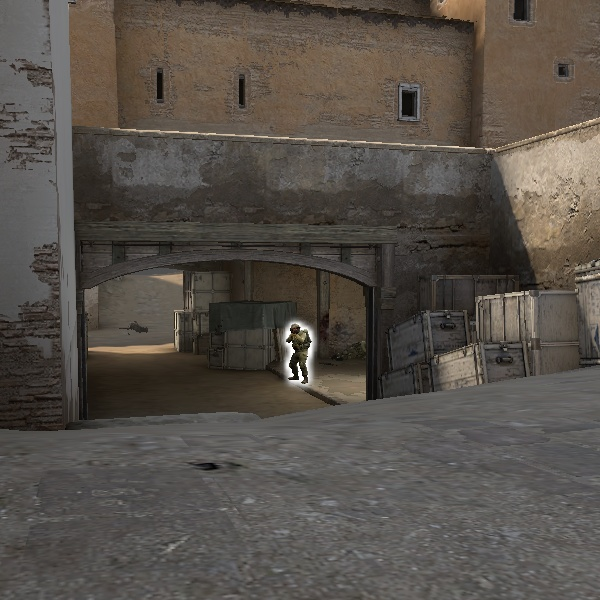ct_body: (286, 323, 310, 384)
ct_head: (290, 323, 300, 335)
